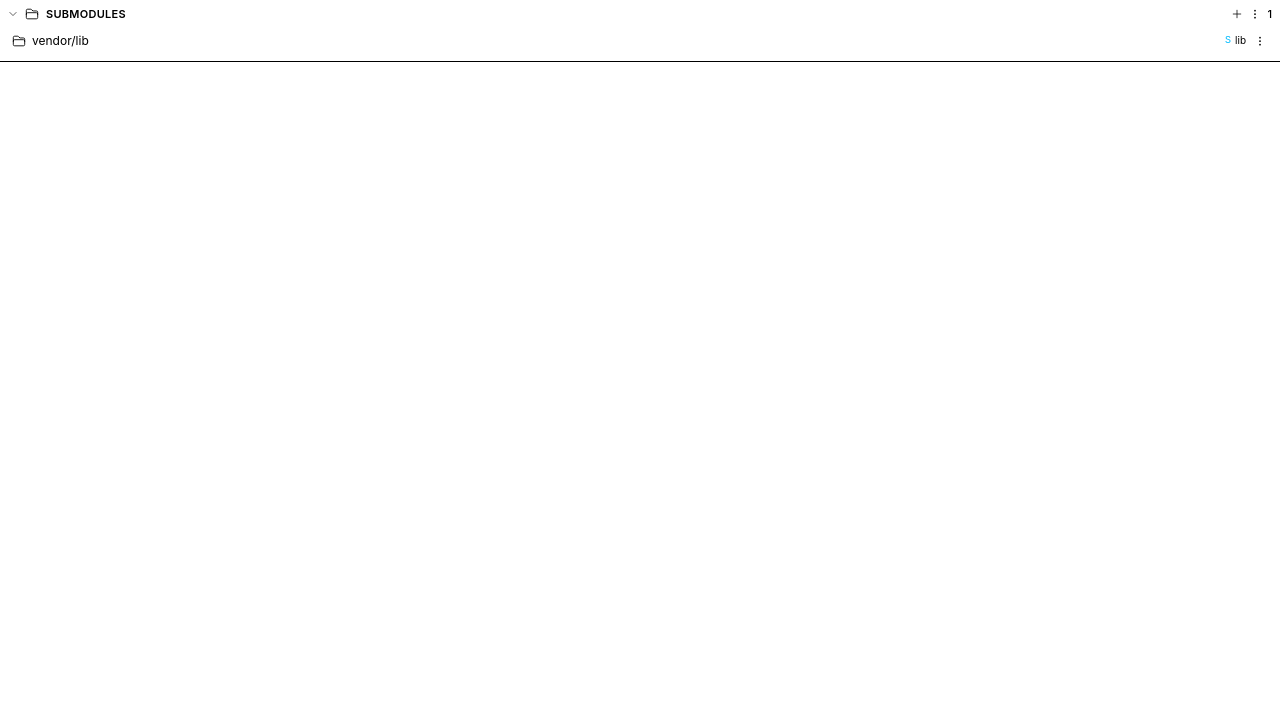
Test case: SubmodulesSection › opens row context menu and the add submodule modal
Right-click the button "vendor/lib" at (60, 40), box [32,32,1219,48]
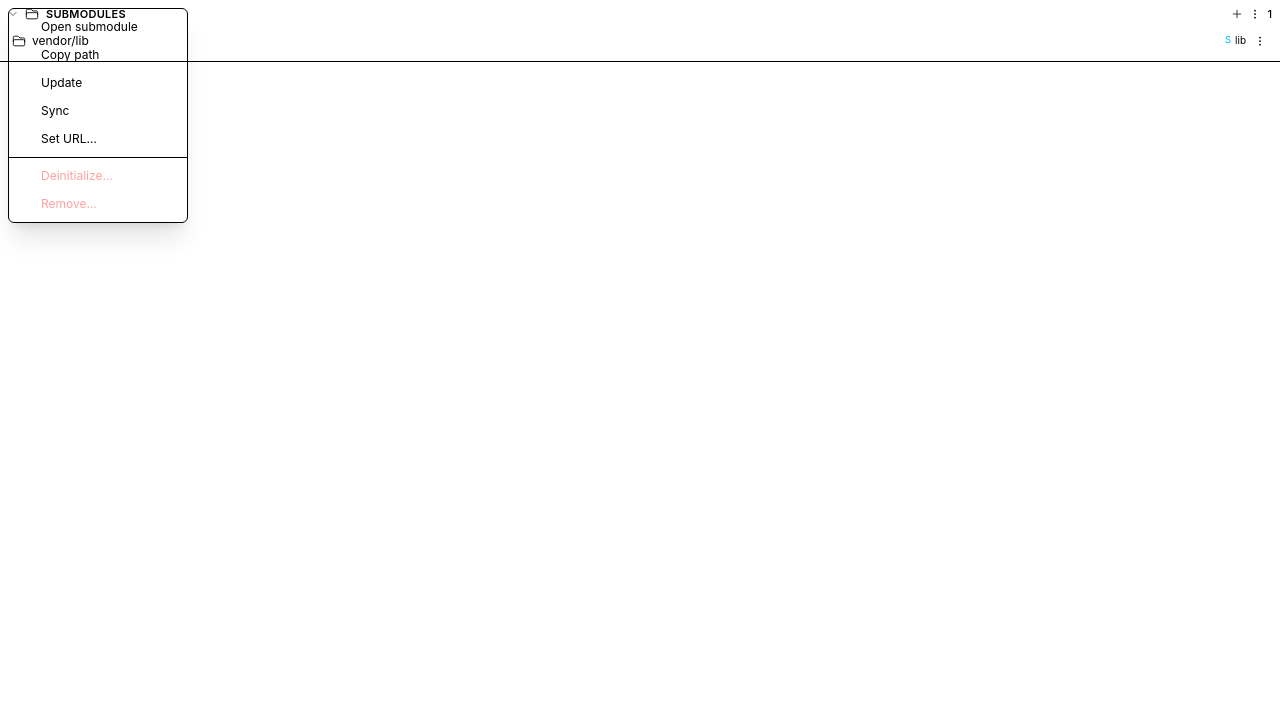
Now the menu is shown, box [8,8,188,223]
Click the button named "add submodule" at (1237, 14), box [1229,6,1245,22]
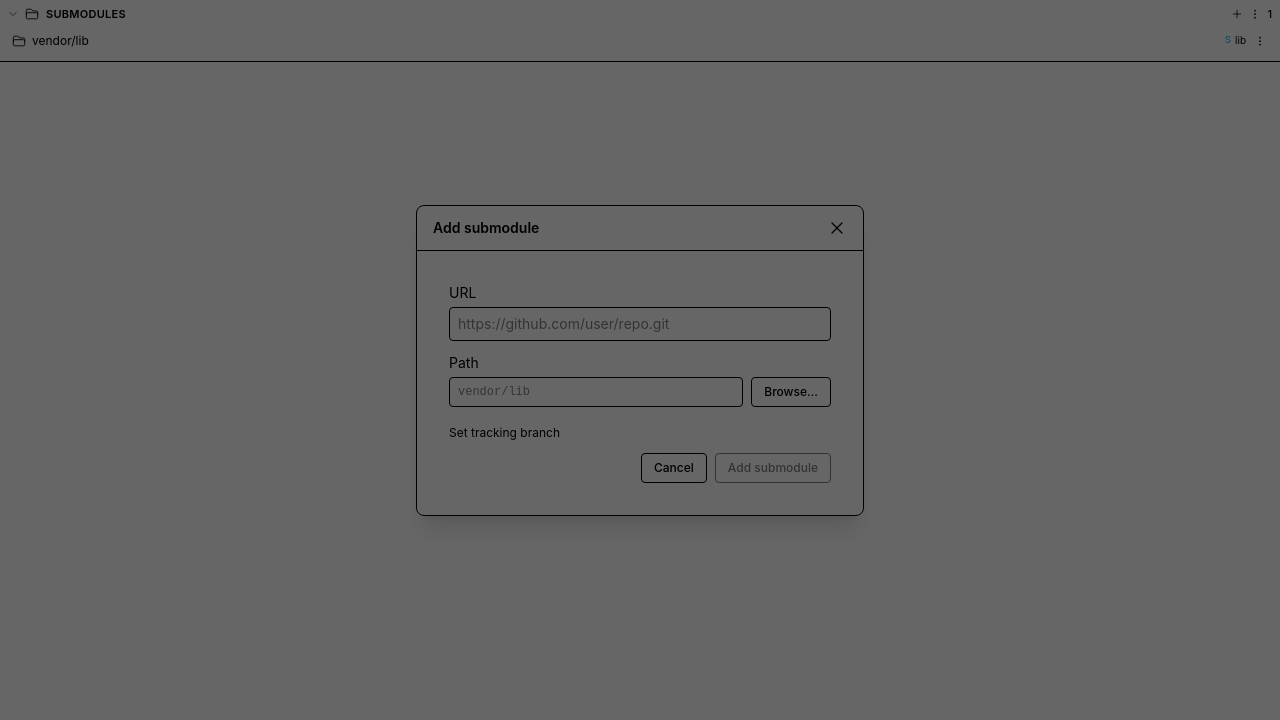
Now the dialog is shown, box [416,204,864,516]
